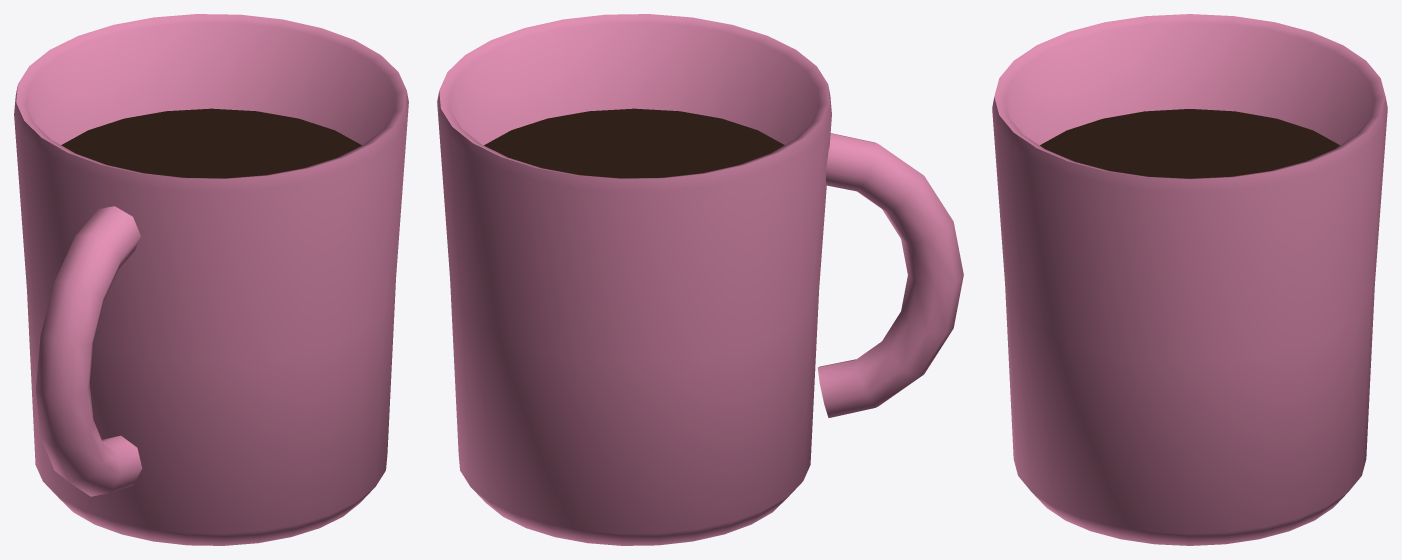
Rendered from mug.fbx.
3 views of the same model, side by side, from view 1: azimuth 30°, elevation 25°; view 2: azimuth 150°, elevation 25°; view 3: azimuth 270°, elevation 25° (orthographic).
Parts seen in each view (by area): view 1: mug; view 2: mug; view 3: mug.
Boxes of the visible parts, x1=… form: mug: x1=14, y1=14, x2=408, y2=545; mug: x1=437, y1=14, x2=963, y2=545; mug: x1=992, y1=14, x2=1387, y2=545.
Size of the model in its own units: 0.1126 by 0.098 by 0.092.
